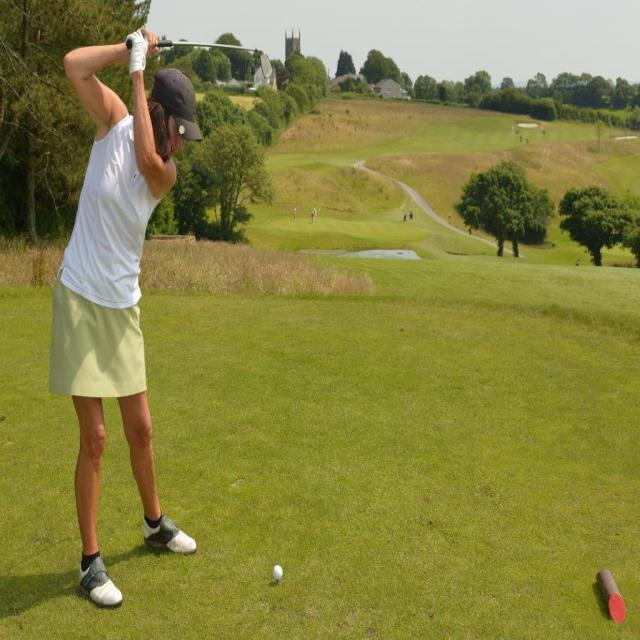ClubHead: (248, 30, 274, 91)
GolfBall: (267, 560, 287, 586)
